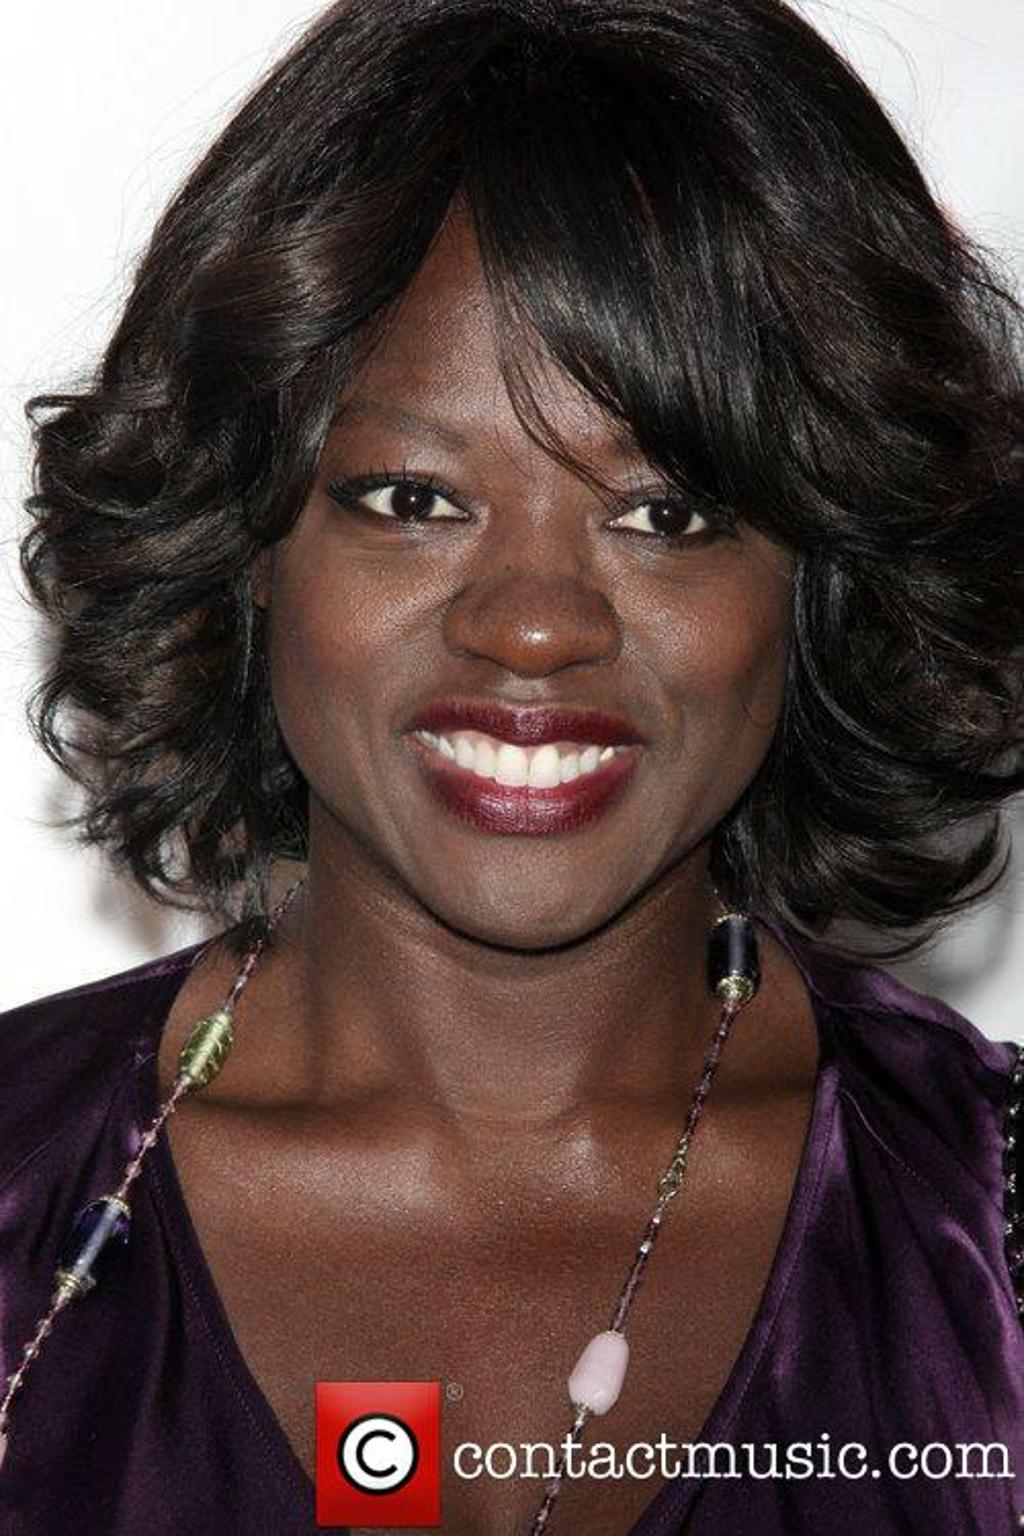face: (267, 99, 808, 949)
